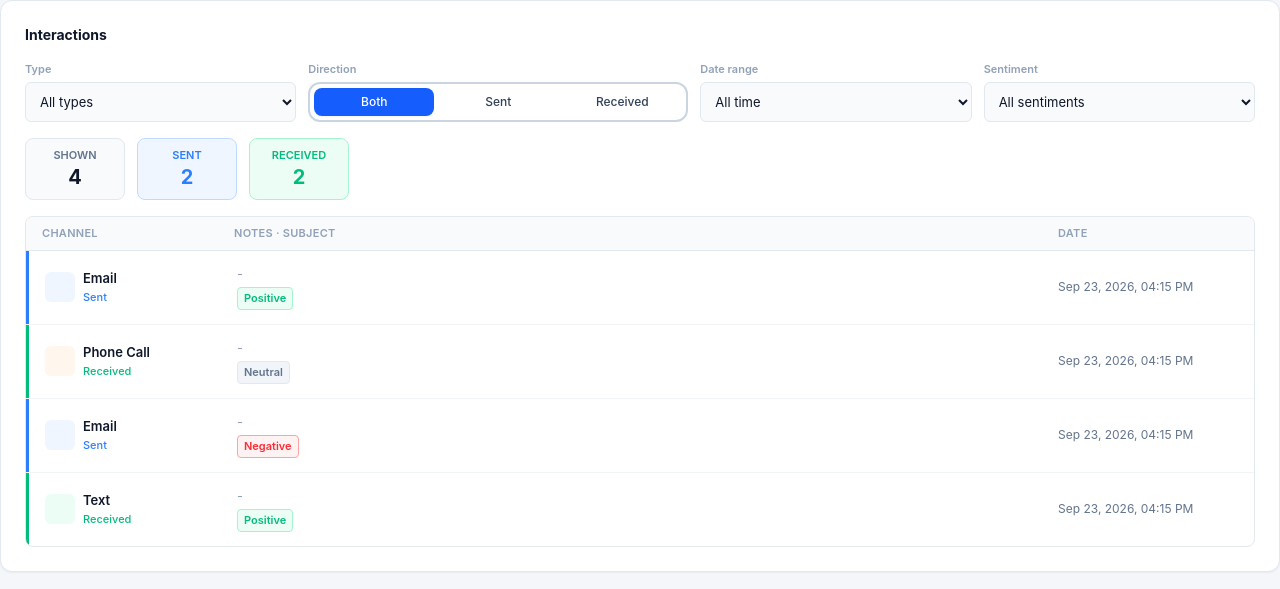
Test case: CoachInteractionsTable › filters to sent-only via the Direction control and updates the Shown count
Click the radio button labelled "Sent" at (498, 101), box [485,94,511,108]
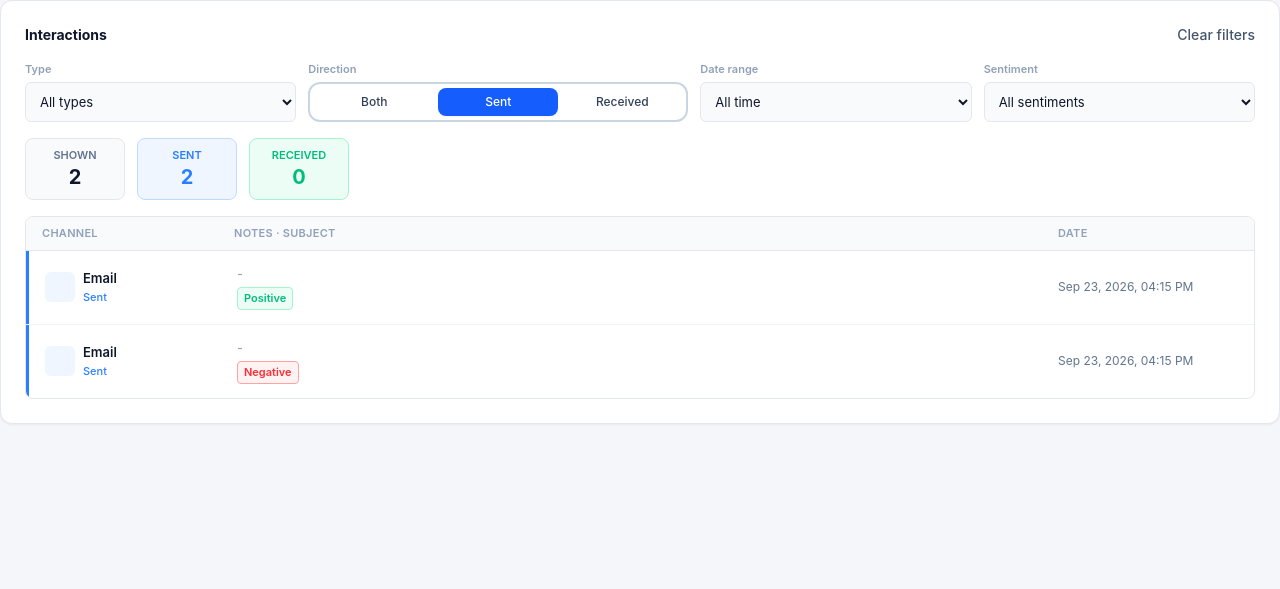
Check: the text "Shown" is shown, box [53,146,97,163]
Check: the number of list items is 2, box [26,250,1254,324]; [26,324,1254,398]
Check: the text "Shown 2" is shown, box [25,138,125,200]
